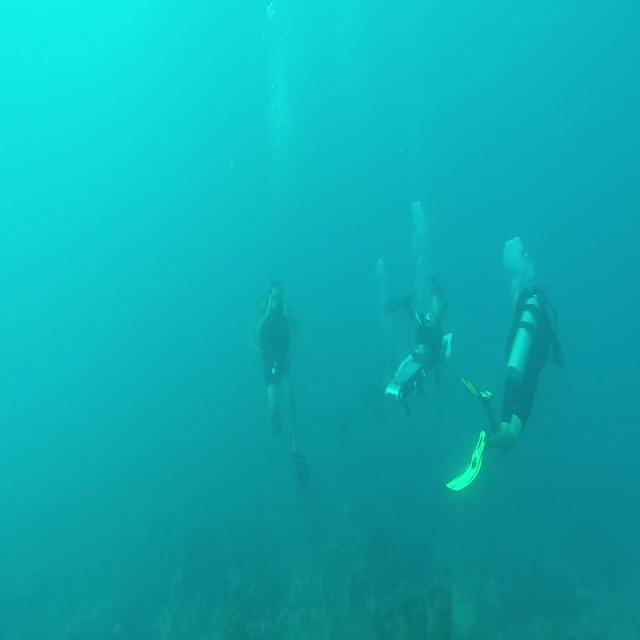human: (446, 235, 565, 493), (248, 278, 310, 487), (383, 273, 452, 417)
